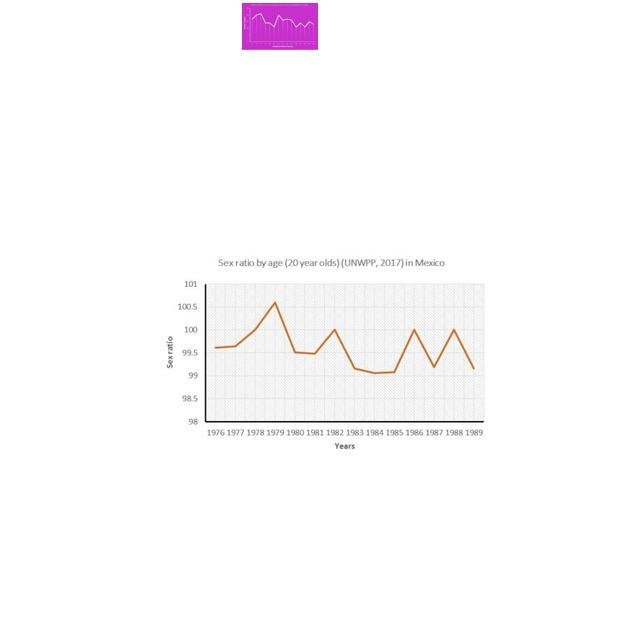Graph: (156, 255, 490, 452), (242, 3, 318, 50)
